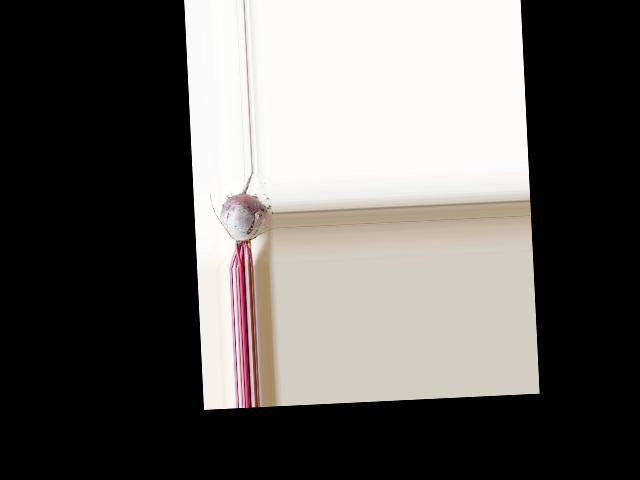beet: (209, 171, 269, 268)
